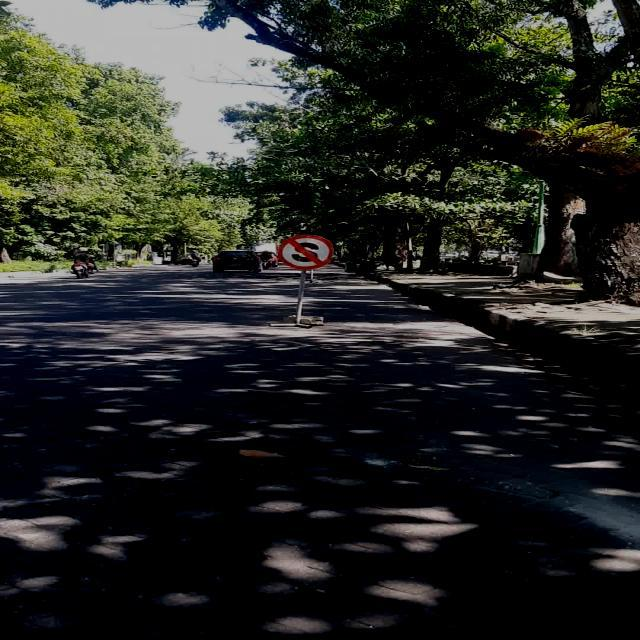Dilarang Berhenti: (278, 234, 333, 270)
